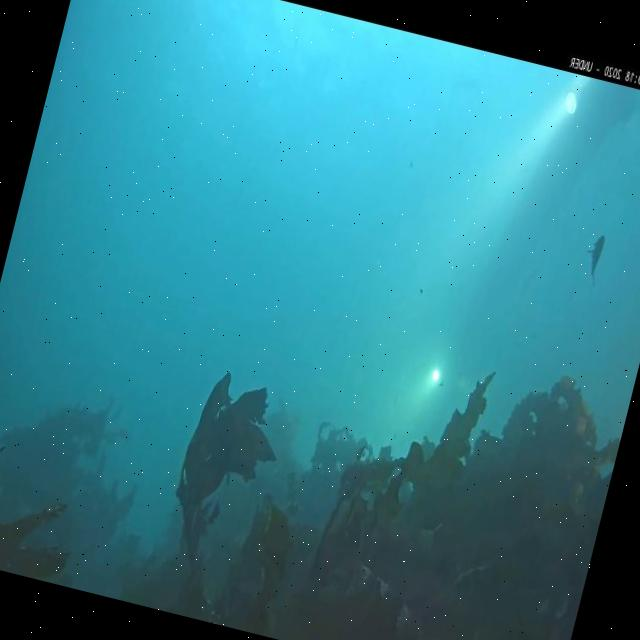fish: (578, 232, 608, 289)
